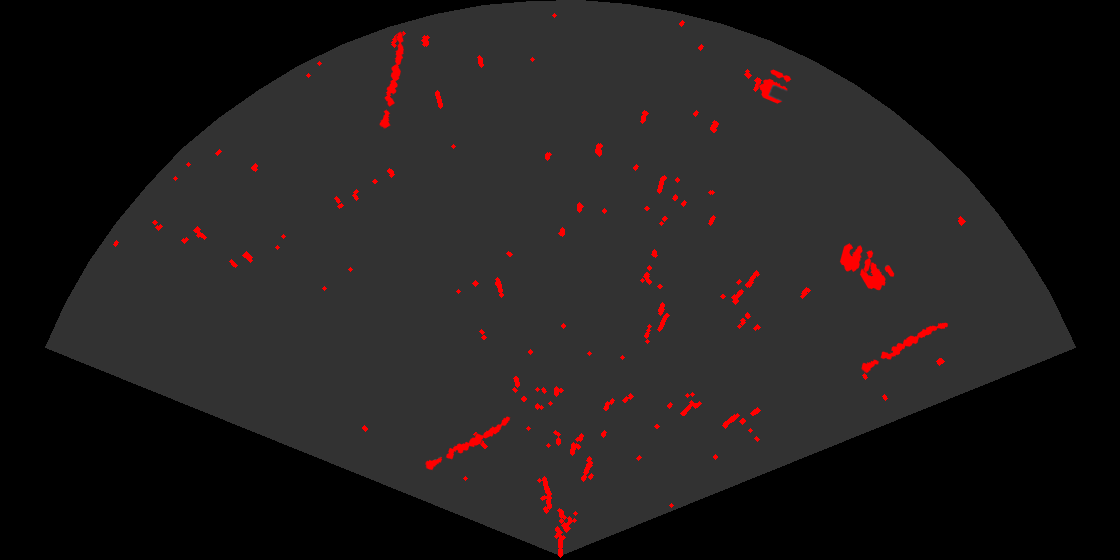ball: (758, 68, 793, 105), (838, 242, 875, 274), (858, 261, 896, 292)
chain: (423, 415, 512, 472), (860, 321, 950, 375), (378, 30, 405, 131)
